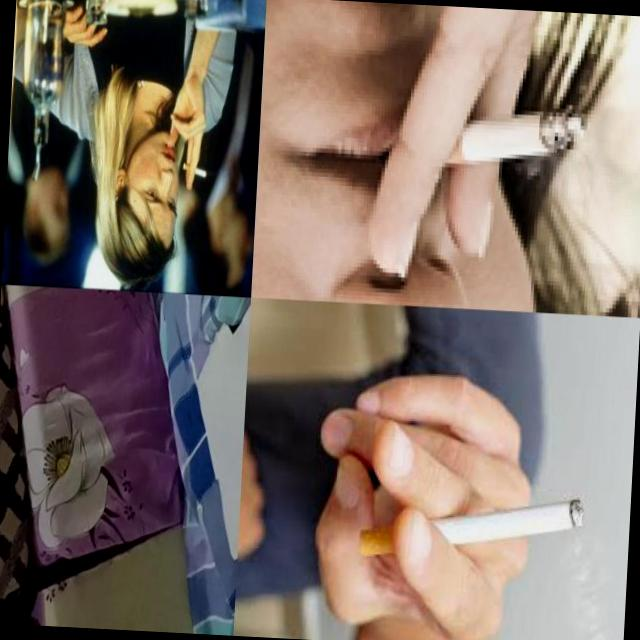cigarette: (293, 371, 591, 640), (405, 100, 588, 178), (160, 71, 212, 178)
